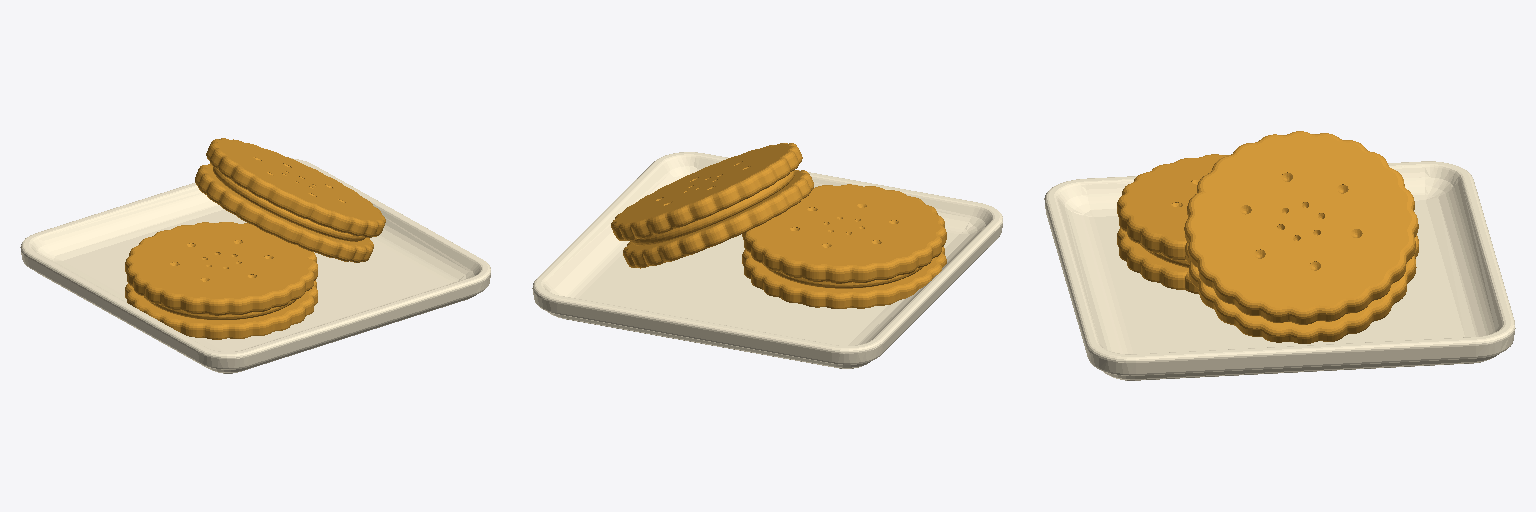
robot.urdf — biscuits_dish:
<?xml version="1.0" encoding="utf-8"?>
<!-- This URDF was automatically created by SolidWorks to URDF Exporter! Originally created by [author] ([email redacted]) 
     Commit Version: 1.6.0-4-g7f85cfe  Build Version: 1.6.7995.38578
     For more information, please see http://wiki.ros.org/sw_urdf_exporter -->
<robot
  name="biscuits_dish">
  <link
    name="servingdish">
    <inertial>
      <origin
        xyz="2.7075E-08 4.3908E-08 -0.00057887"
        rpy="0 0 0" />
      <mass
        value="0.03616" />
      <inertia
        ixx="3.3763E-05"
        ixy="9.8378E-11"
        ixz="2.3456E-11"
        iyy="3.3763E-05"
        iyz="-2.3048E-11"
        izz="6.728E-05" />
    </inertial>
    <visual>
      <origin
        xyz="0 0 0"
        rpy="1.57 0 0" />
      <geometry>
        <mesh
          filename="package://biscuits_dish/meshes/servingdish.STL" />
      </geometry>
      <material
        name="">
        <color
          rgba="1 0.95686 0.85098 1" />
      </material>
    </visual>
    <collision>
      <origin
        xyz="0 0 0"
        rpy="0 0 0" />
      <geometry>
        <mesh
          filename="package://biscuits_dish/meshes/servingdish.STL" />
      </geometry>
    </collision>
  </link>
  <link
    name="biscuit">
    <inertial>
      <origin
        xyz="0.0097945 0.0042388 0.014666"
        rpy="0 0 0" />
      <mass
        value="0.055502" />
      <inertia
        ixx="9.659E-06"
        ixy="1.442E-07"
        ixz="7.6002E-08"
        iyy="1.8075E-05"
        iyz="1.9481E-06"
        izz="1.068E-05" />
    </inertial>
    <visual>
      <origin
        xyz="-0.01 -0.009 0.015"
        rpy="0 0 0" />
      <geometry>
        <mesh
          filename="package://biscuits_dish/meshes/biscuit.STL" />
      </geometry>
      <material
        name="">
        <color
          rgba="0.8608 0.62353 0.23725 1" />
      </material>
    </visual>
    <collision>
      <origin
        xyz="0 0 0"
        rpy="0 0 0" />
      <geometry>
        <mesh
          filename="package://biscuits_dish/meshes/biscuit.STL" />
      </geometry>
    </collision>
  </link>
  <joint
    name="biscuit"
    type="fixed">
    <origin
      xyz="-0.015968 -0.013252 0.008"
      rpy="1.5708 0 1.449" />
    <parent
      link="servingdish" />
    <child
      link="biscuit" />
    <axis
      xyz="0 0 0" />
  </joint>
</robot>

--- What the picture shows (computed from the rendered views, not written in the file) ---
3 views of the same robot in one strip: view 1: azimuth 30°, elevation 25°; view 2: azimuth 150°, elevation 25°; view 3: azimuth 270°, elevation 25° (orthographic).
Model biscuits_dish with 2 links and 1 joints (1 fixed), rooted at servingdish, posed all joints at 0.
Visible links, largest first — view 1: biscuit, servingdish; view 2: servingdish, biscuit; view 3: biscuit, servingdish.
Boxes of the visible links, x1,y1,x2,y2 form: biscuit: [125, 138, 385, 339]; servingdish: [20, 158, 490, 373]; servingdish: [532, 152, 1002, 368]; biscuit: [611, 143, 946, 308]; biscuit: [1117, 131, 1418, 343]; servingdish: [1044, 161, 1515, 380].
Bounding box of the posed robot: 0.1101 × 0.1101 × 0.0385 m (x, y, z).
Meshes: 2 distinct files referenced, 2 mesh visuals loaded (2 binary STL).